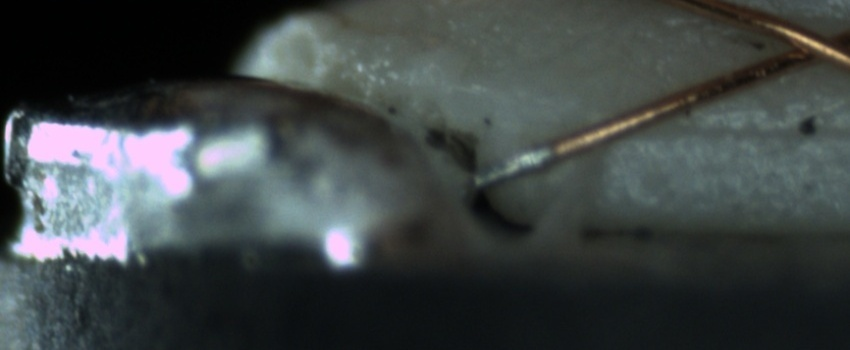CL: (755, 12, 848, 77)
DL: (636, 94, 849, 165)
TS: (472, 142, 556, 188)
